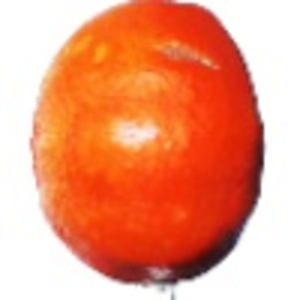tangerina: (29, 1, 267, 288)
